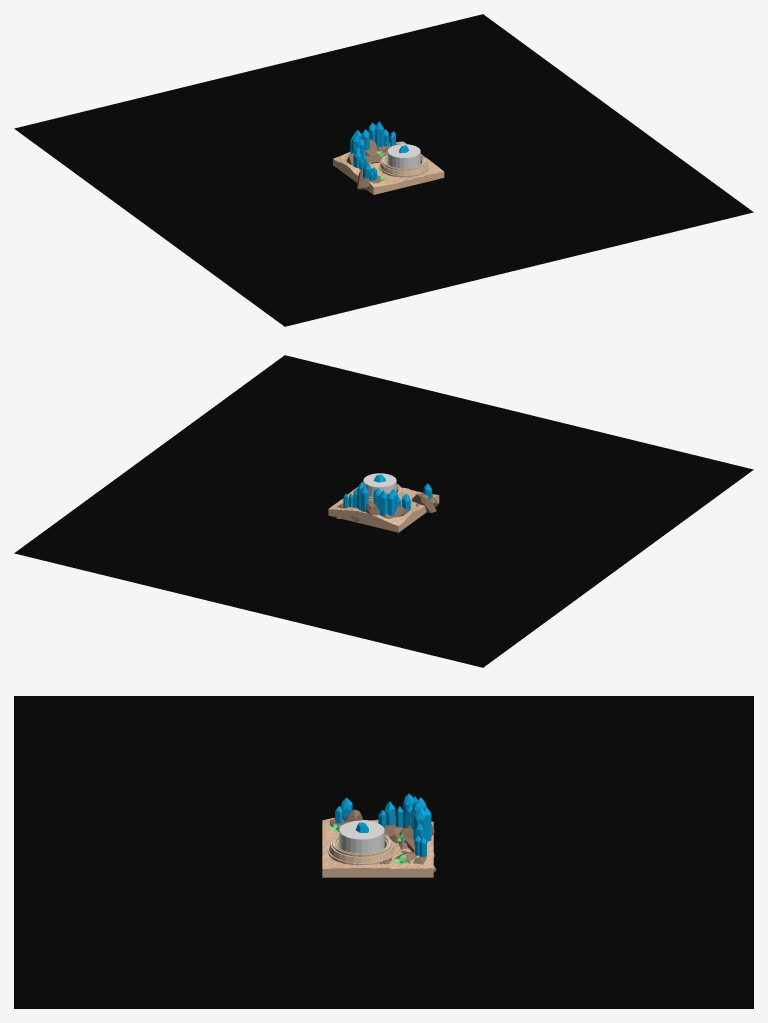
Rendered from 109-crystal-desert.fbx.
The picture shows the model from 3 angles, top to bottom: view 1: azimuth 30°, elevation 25°; view 2: azimuth 150°, elevation 25°; view 3: azimuth 270°, elevation 25°; orthographic projection. The views are drawn at different scales.
Visible parts, largest first — view 1: Bg, Ground, Cutout, Ring; view 2: Bg, Ground; view 3: Bg, Ground, Cutout, Ring.
Boxes of the visible parts, <box> form: Bg: <box>14,14,753,326</box>; Ground: <box>333,141,444,194</box>; Cutout: <box>387,144,420,168</box>; Ring: <box>379,154,428,177</box>; Bg: <box>14,355,753,667</box>; Ground: <box>328,487,439,532</box>; Bg: <box>14,696,753,1008</box>; Ground: <box>322,817,433,877</box>; Cutout: <box>339,820,384,853</box>; Ring: <box>327,834,395,865</box>.
Size of the model in its own units: 53.25 by 6.79 by 53.25.
